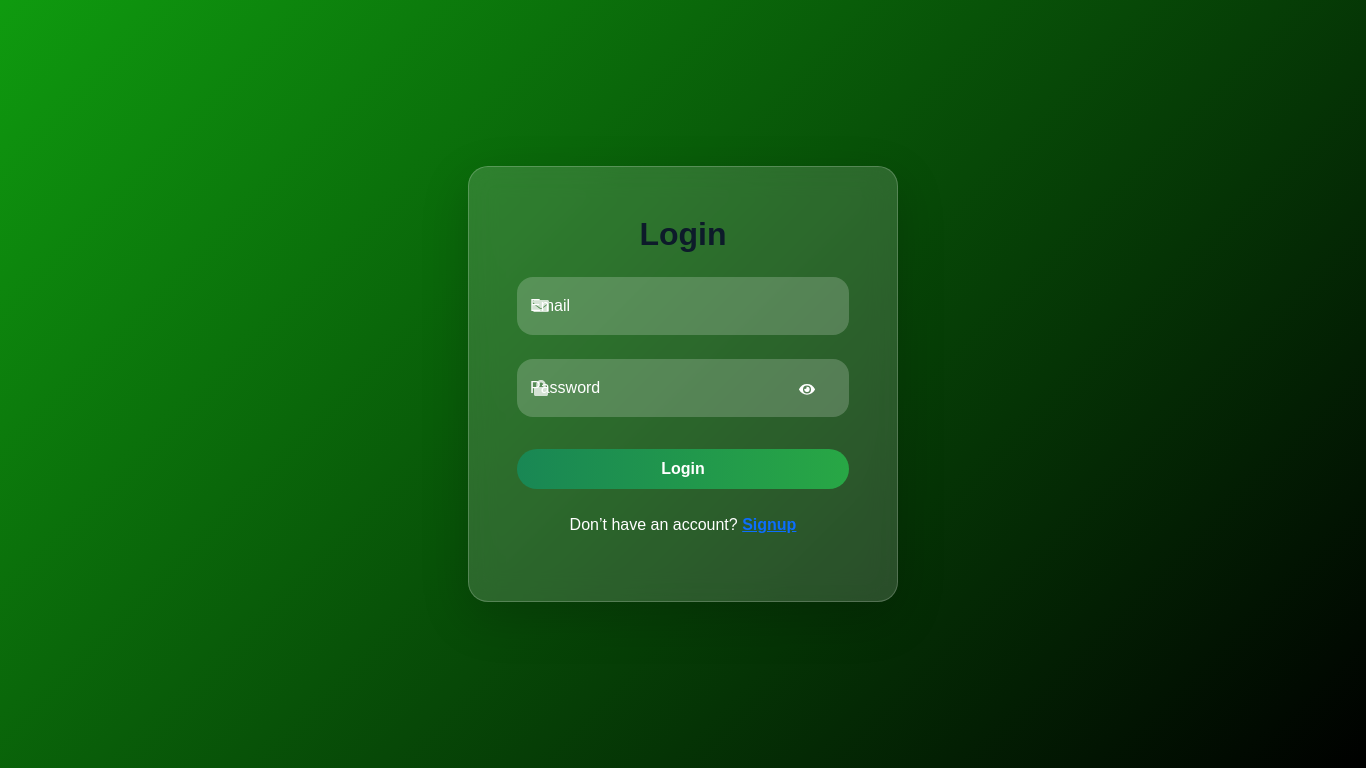
Test: Login Component › handles successful login
This screenshot has width=1366, height=768.
Type "test@example.com" into the field labelled "Email" at (683, 306), box [517,277,849,335]
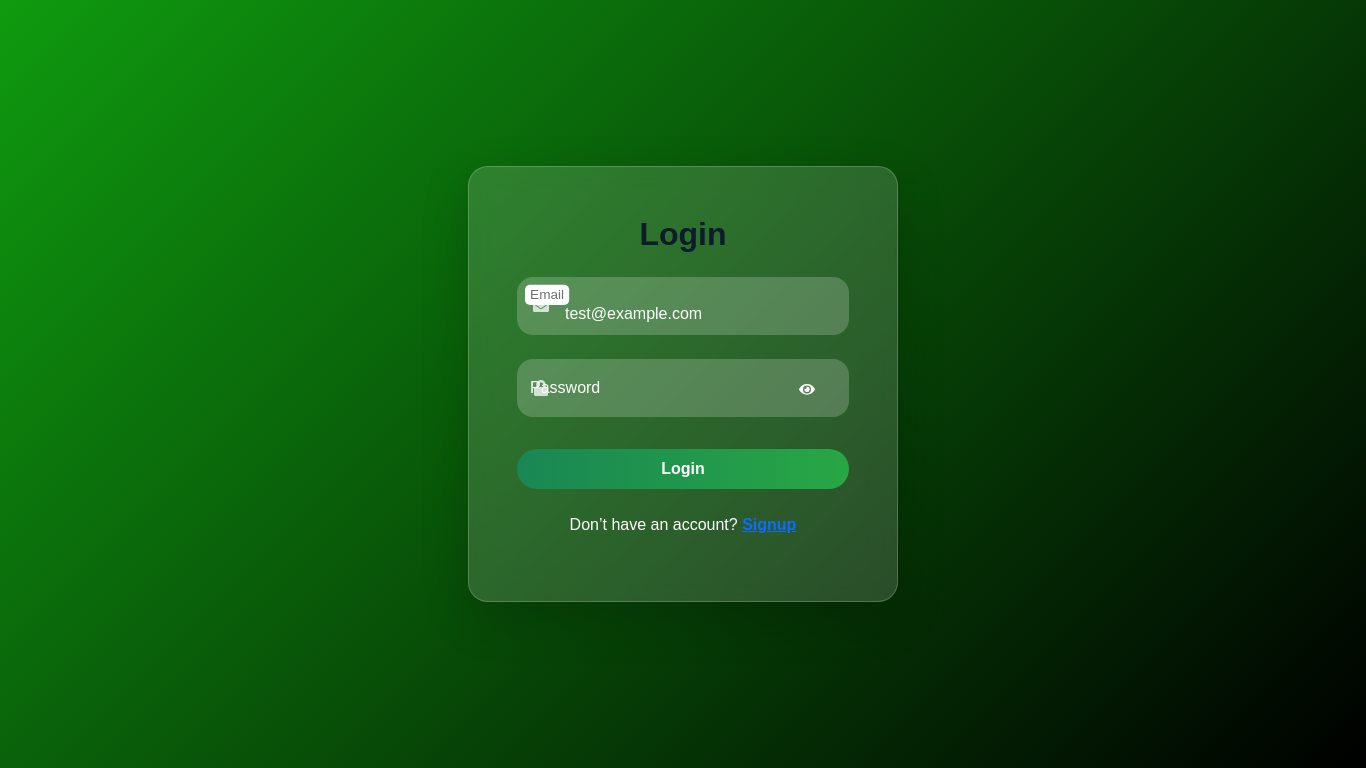
Type "test-password" into the password field labelled "Password" at (683, 388), box [517,359,849,417]
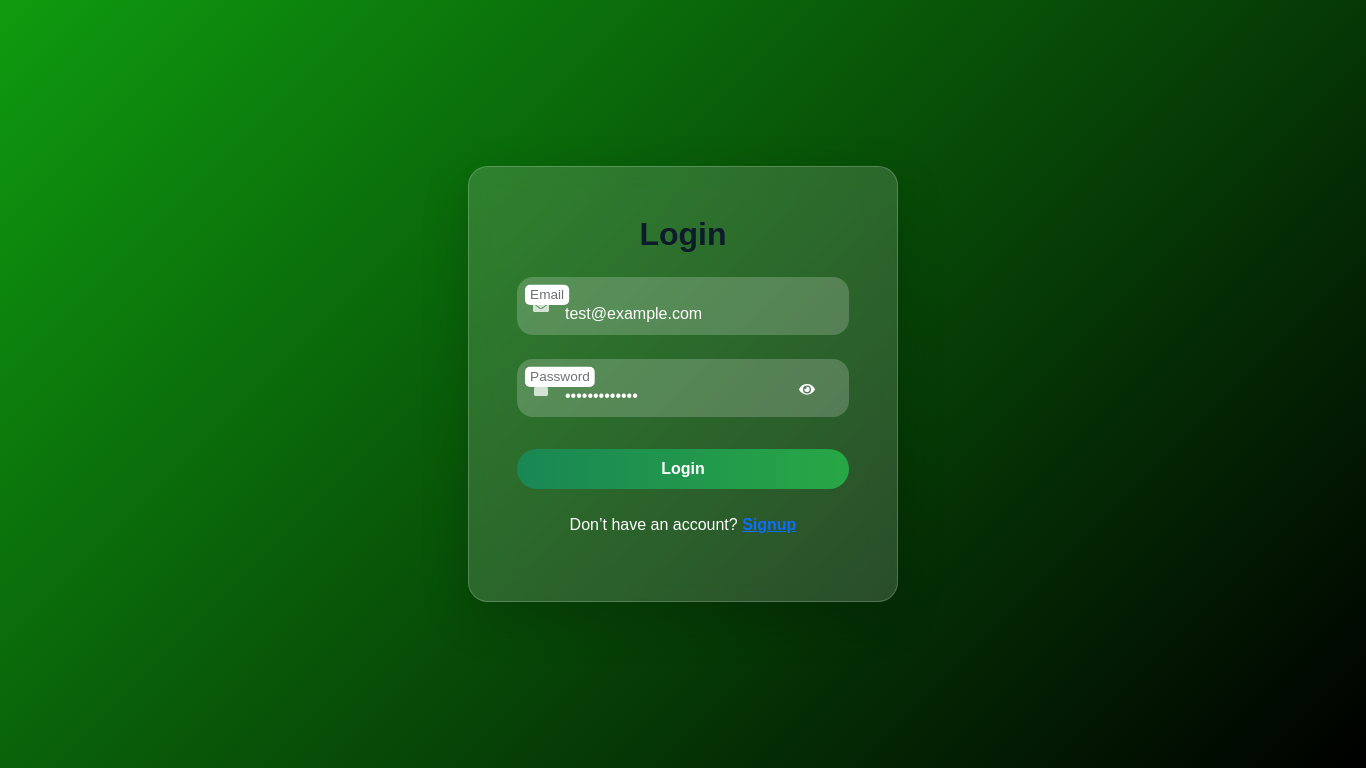
Click the button "Login" at (683, 469), box [517,449,849,489]
Wait 1000 ms
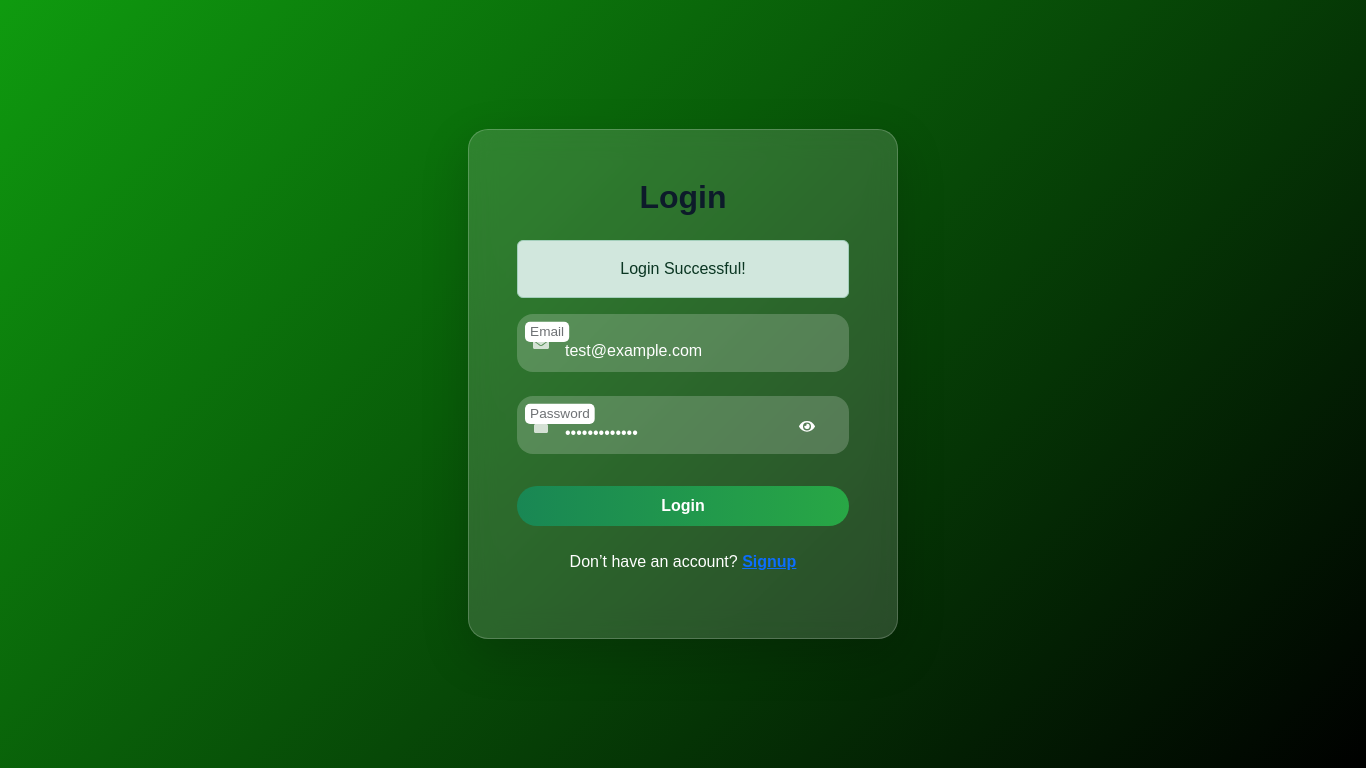
Expected: the text "Login Successful!" is shown, [517,240,849,298]
